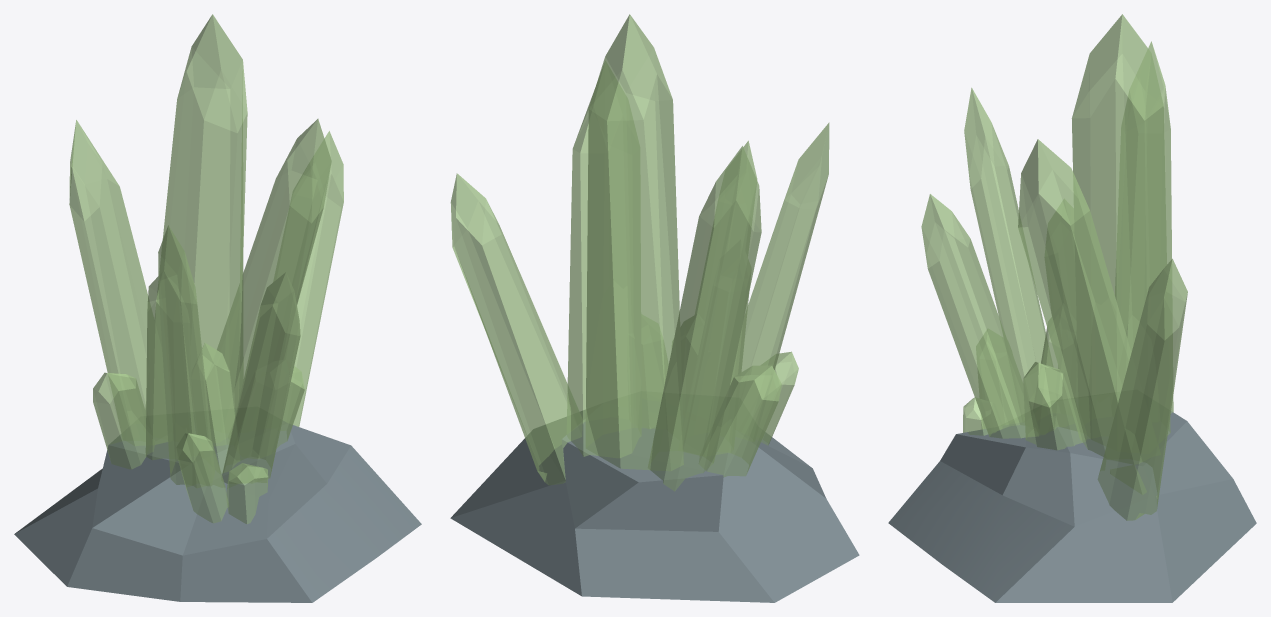
The model's file is cristals.fbx.
3 views of the same model, side by side, from view 1: azimuth 30°, elevation 25°; view 2: azimuth 150°, elevation 25°; view 3: azimuth 270°, elevation 25° (orthographic). The views are drawn at different scales.
Visible parts, largest first — view 1: cristals2; view 2: cristals2; view 3: cristals2.
Boxes of the visible parts, left/top/right/bottom form: cristals2: left=14, top=14, right=421, bottom=602; cristals2: left=450, top=14, right=859, bottom=602; cristals2: left=888, top=14, right=1256, bottom=602.
Size of the model in its own units: 127 by 184 by 118.
